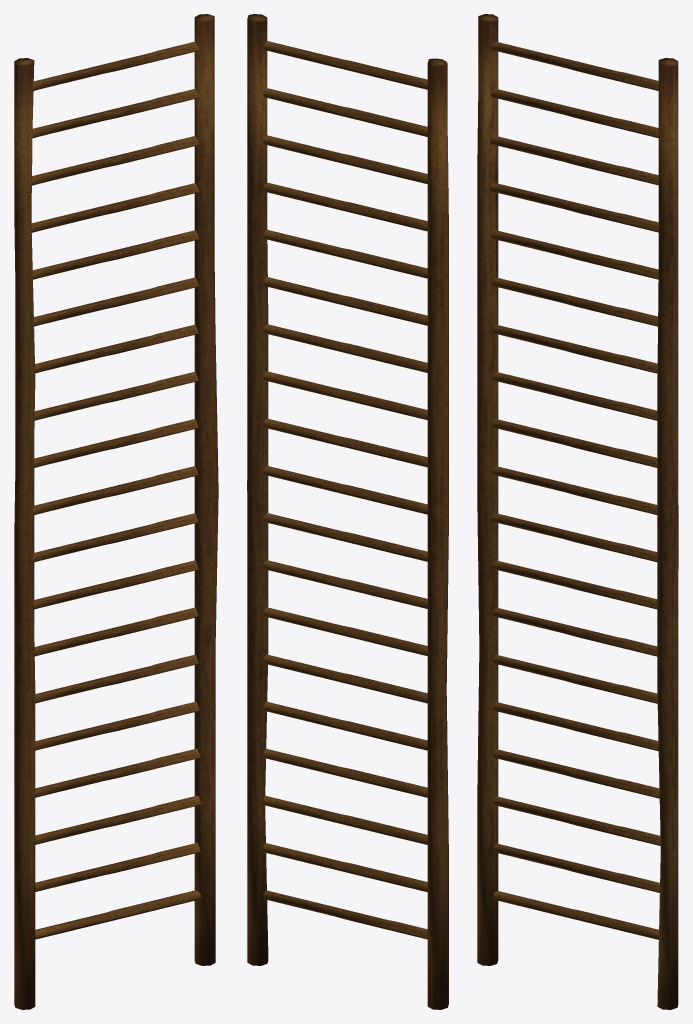
The model's file is Ladder.fbx.
3 renders of one model, left to right at view 1: azimuth 30°, elevation 25°; view 2: azimuth 150°, elevation 25°; view 3: azimuth 330°, elevation 25°, orthographic.
Parts seen in each view (by area): view 1: Pillars, Steps; view 2: Pillars, Steps; view 3: Pillars, Steps.
Part boxes in pixels (left/top/right/bottom): Pillars: left=14, top=14, right=218, bottom=1009; Steps: left=31, top=41, right=201, bottom=939; Pillars: left=247, top=14, right=448, bottom=1009; Steps: left=262, top=41, right=427, bottom=939; Pillars: left=477, top=14, right=678, bottom=1009; Steps: left=489, top=41, right=660, bottom=939.
Size of the model in its own units: 447 by 2000 by 45.04.
